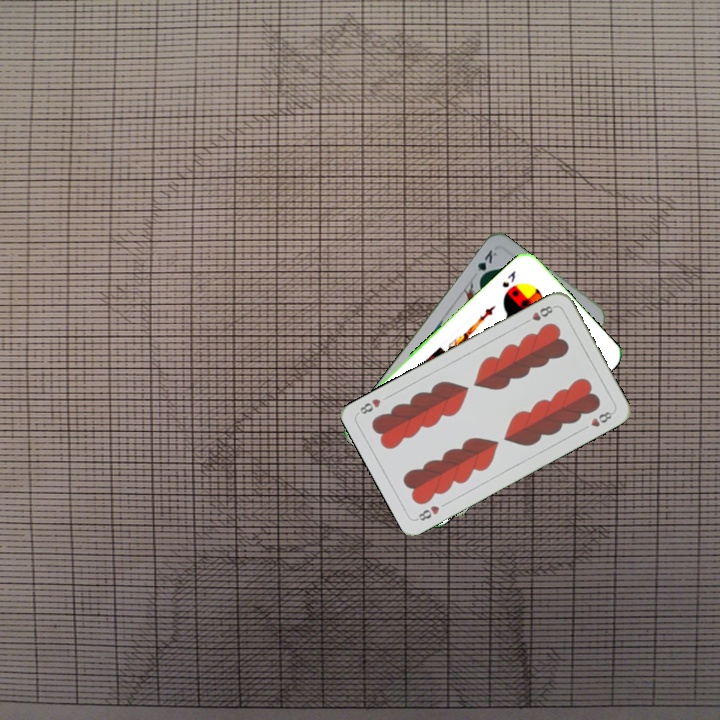GK: (472, 245, 500, 283)
H8: (520, 301, 558, 327), (412, 501, 442, 523)
SK: (498, 266, 522, 290)
